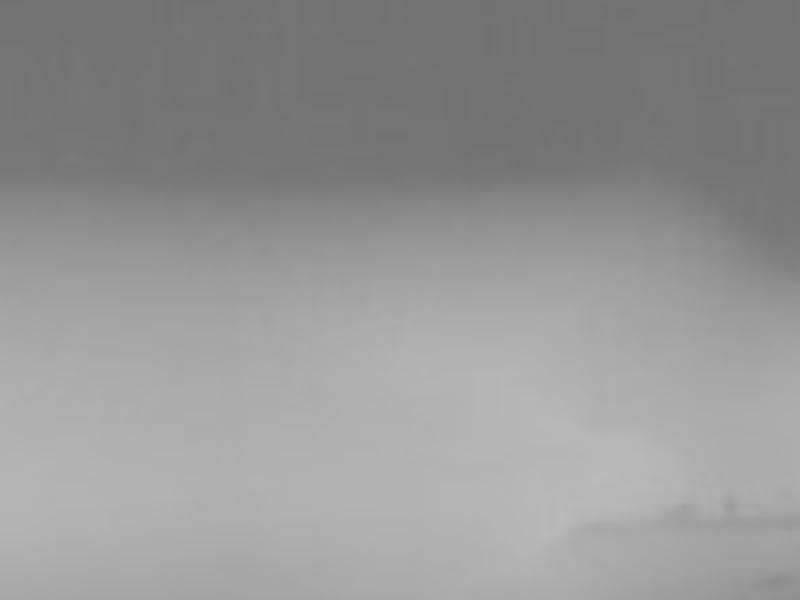defect: (719, 493, 736, 513)
